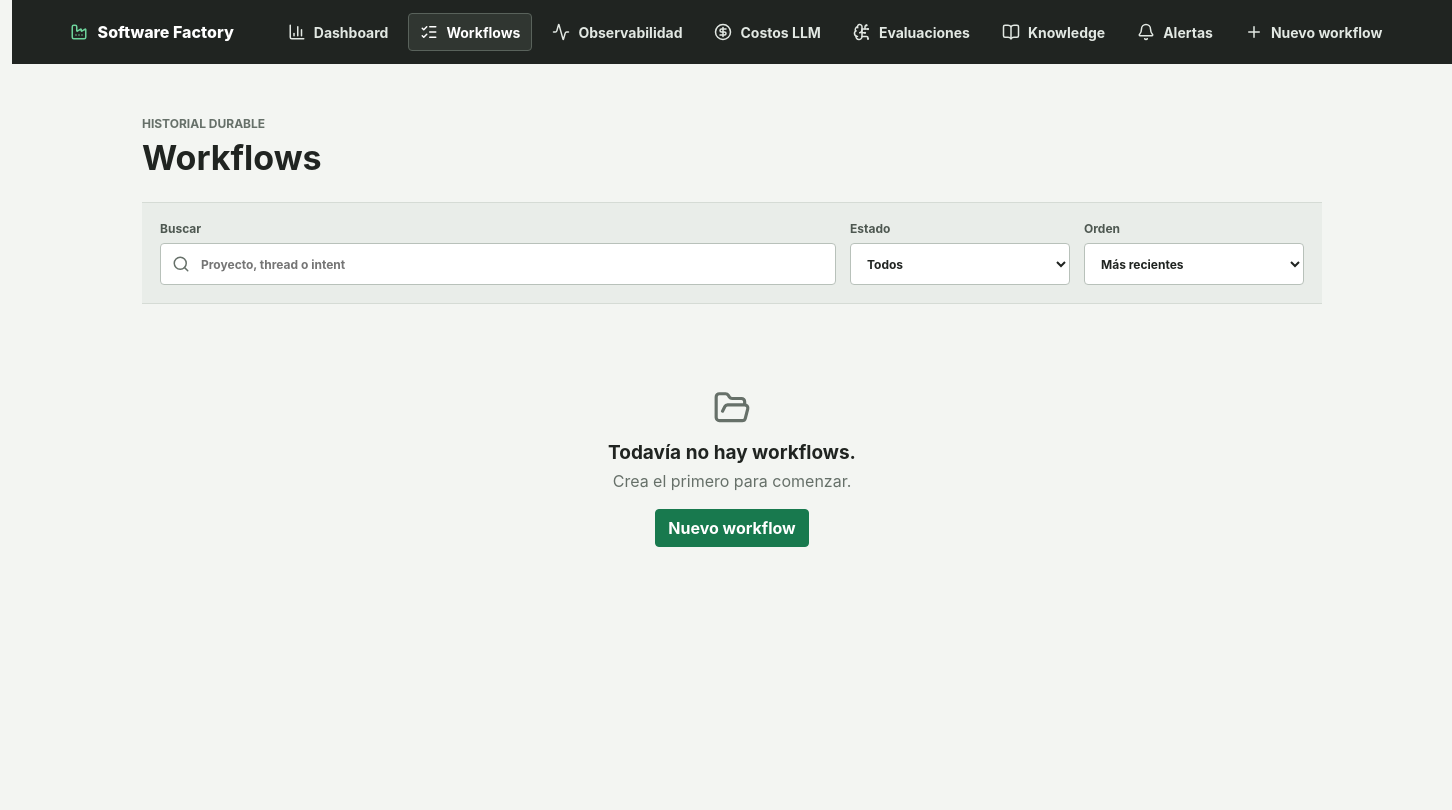
Test case: workflow list › updates the status query and resets offset
The image size is (1452, 810).
Select "Esperando aprobación" in the dropdown labelled "Estado" at (960, 264), box left=850, top=243, right=1070, bottom=285
(page scrolled)
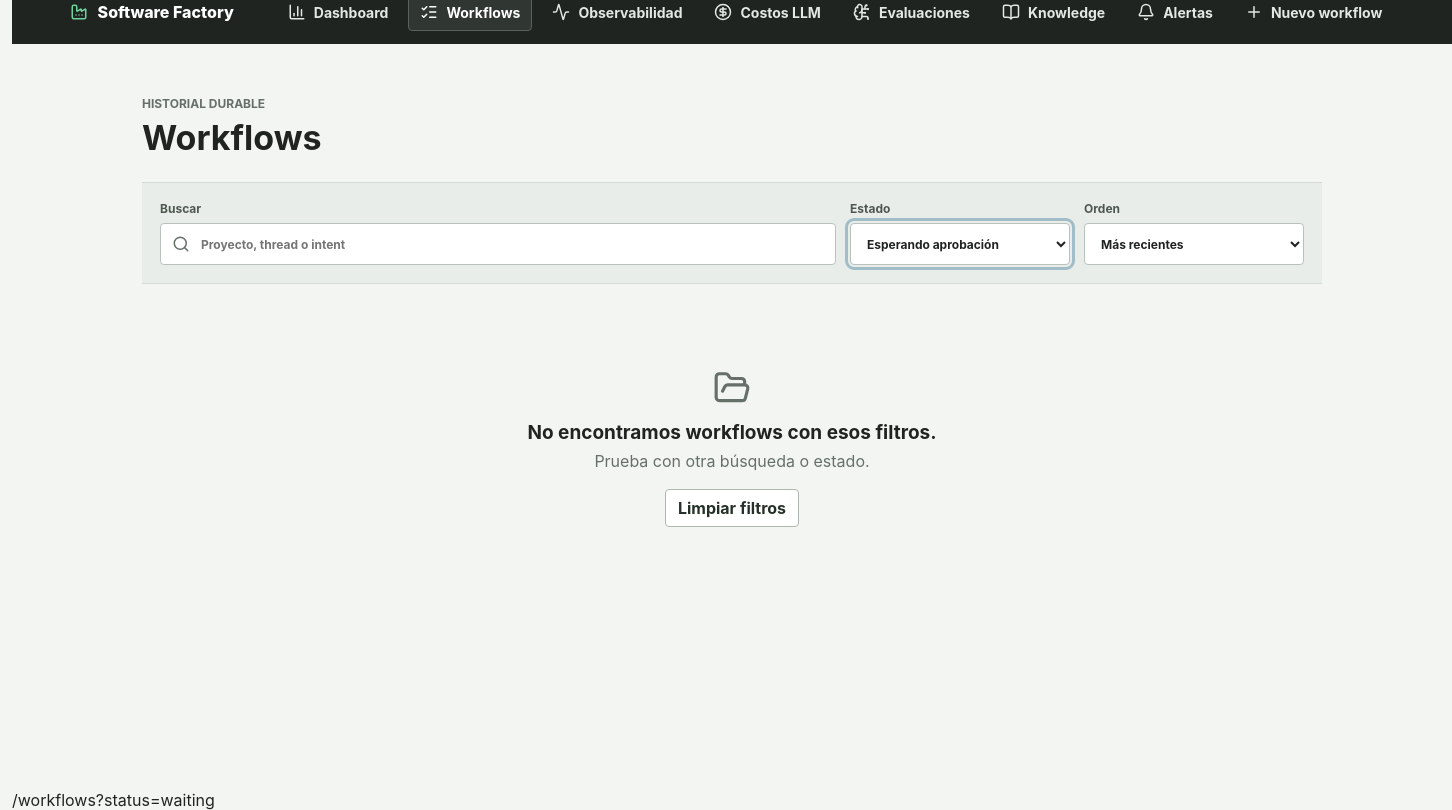
Expected: the text with test id "location" reads "/workflows?status=waiting", left=12, top=790, right=215, bottom=809
